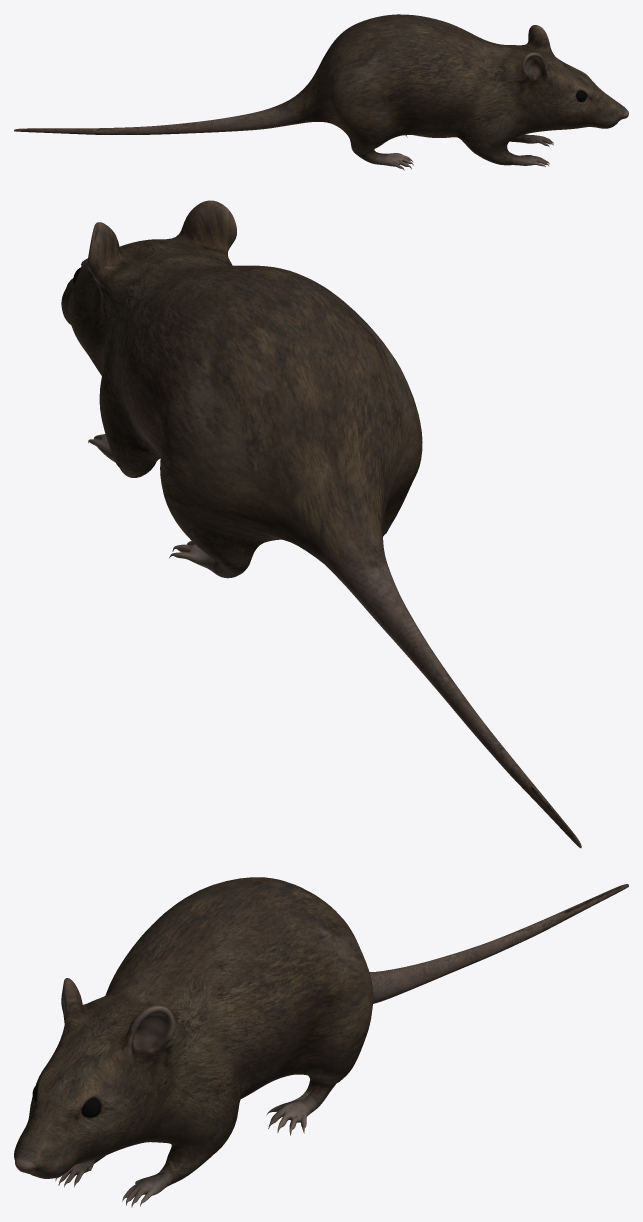
File: street_rat.glb
The picture shows the model from 3 angles, top to bottom: view 1: azimuth 30°, elevation 25°; view 2: azimuth 150°, elevation 25°; view 3: azimuth 270°, elevation 25°; orthographic projection. The views are drawn at different scales.
Visible parts, largest first — view 1: street_rat; view 2: street_rat; view 3: street_rat.
Part boxes in pixels (x1=…): street_rat: x1=14, y1=14, x2=628, y2=170; street_rat: x1=61, y1=200, x2=581, y2=848; street_rat: x1=14, y1=877, x2=628, y2=1207.
Bounding box in the file's own units: 0.1202 × 0.0342 × 0.0877.
Materials: 1 (1 with a texture image).
